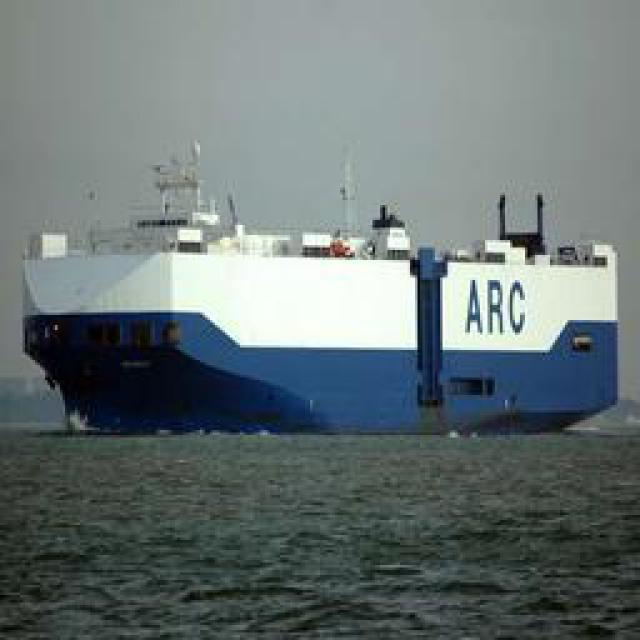Ship: (23, 192, 628, 440)
